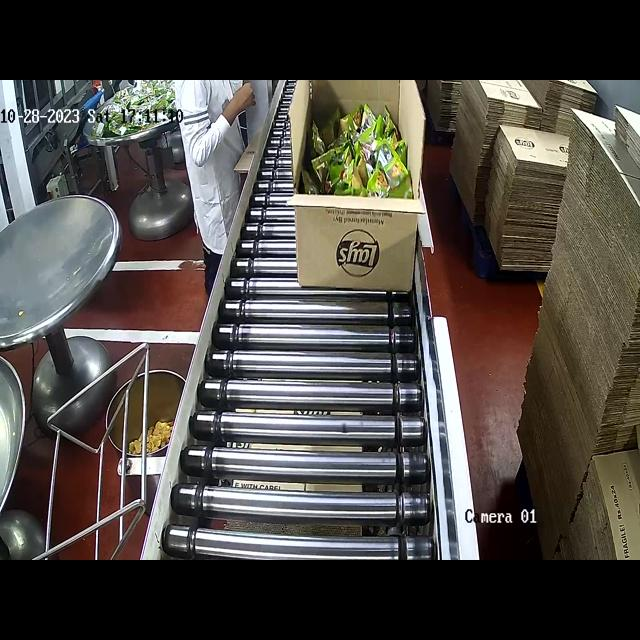yogurt: (307, 115, 408, 185)
